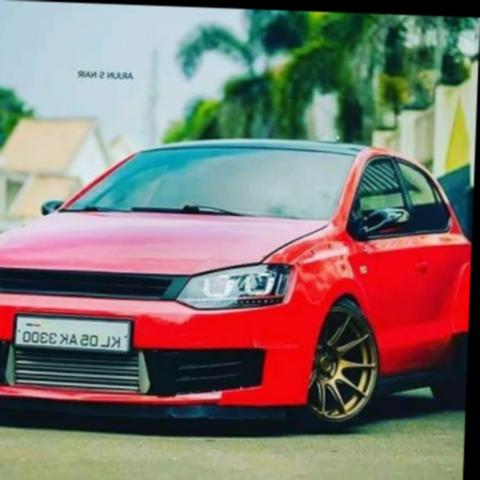License_Plate: (10, 306, 138, 358)
